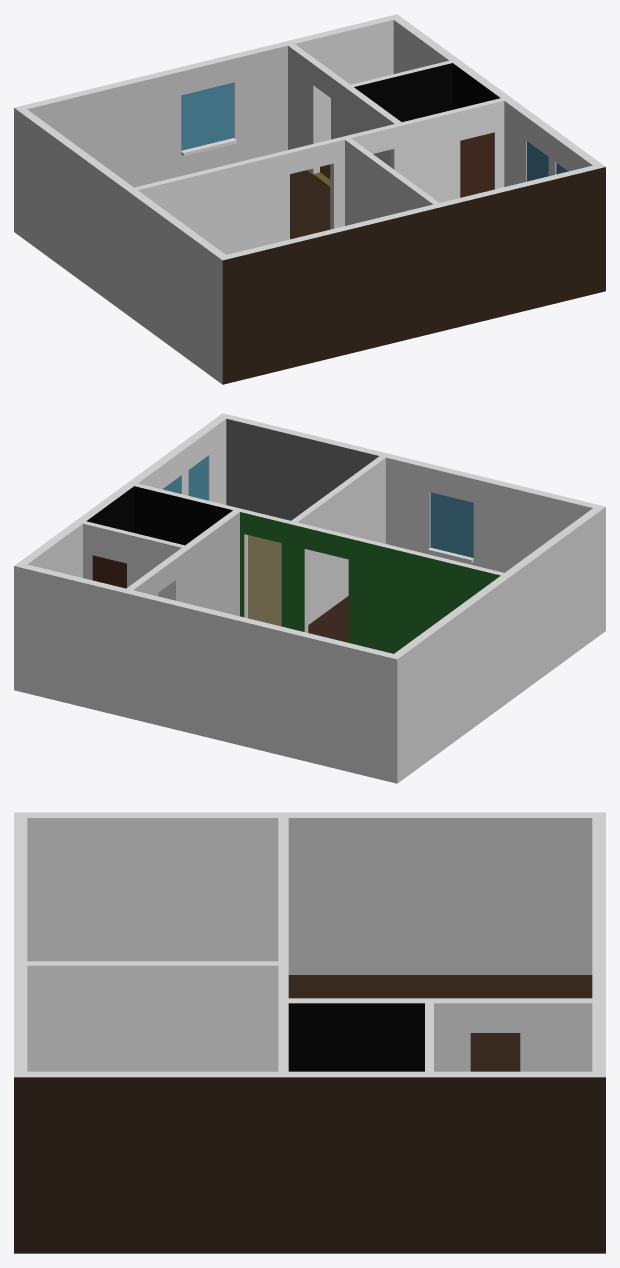
Rendered from building.fbx.
3 renders of one model, top to bottom at view 1: azimuth 30°, elevation 25°; view 2: azimuth 150°, elevation 25°; view 3: azimuth 270°, elevation 25°, orthographic. The views are drawn at different scales.
Parts seen in each view (by area): view 1: building; view 2: building; view 3: building.
Part boxes in pixels (x1,y1,x2,y2): building: [14, 14, 605, 384]; building: [14, 413, 605, 783]; building: [14, 812, 605, 1253].
Bounding box in the file's own units: 2285 × 708 × 2155.
